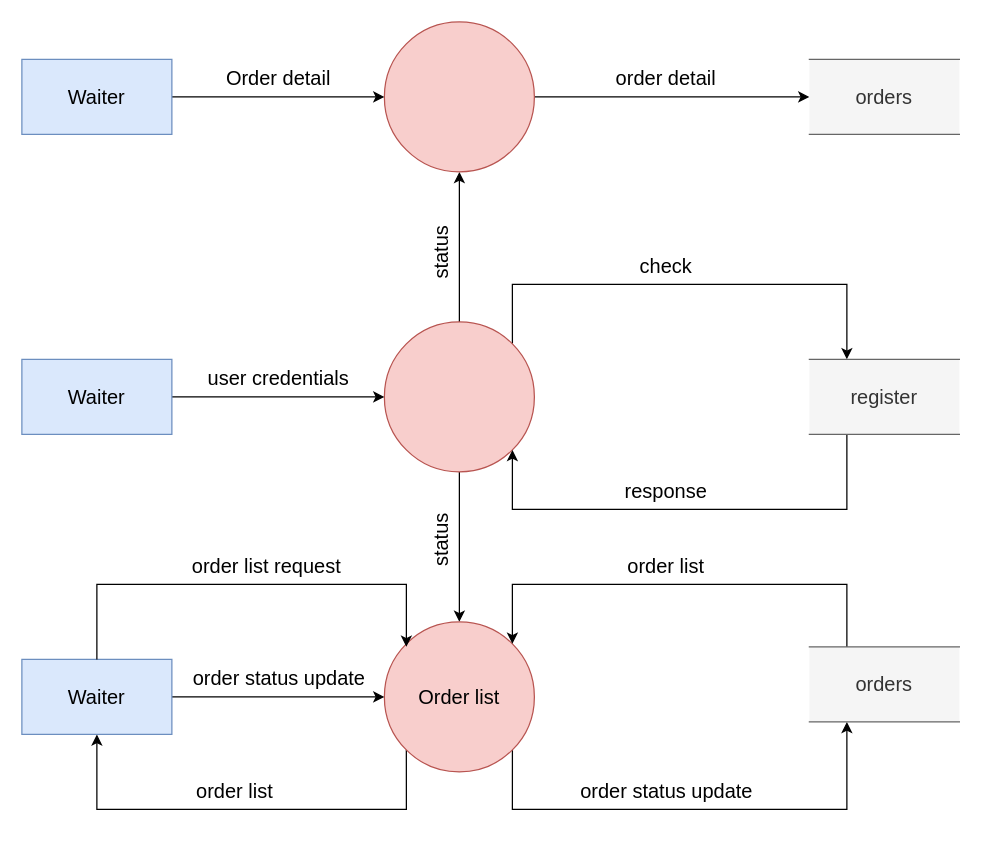
Image size: 981x841. Some labels were removed from this diagram. Each missing label, with the centre of its shape:
"Authentication" belongs at [458,396].
"Take order" belongs at [458,96].
